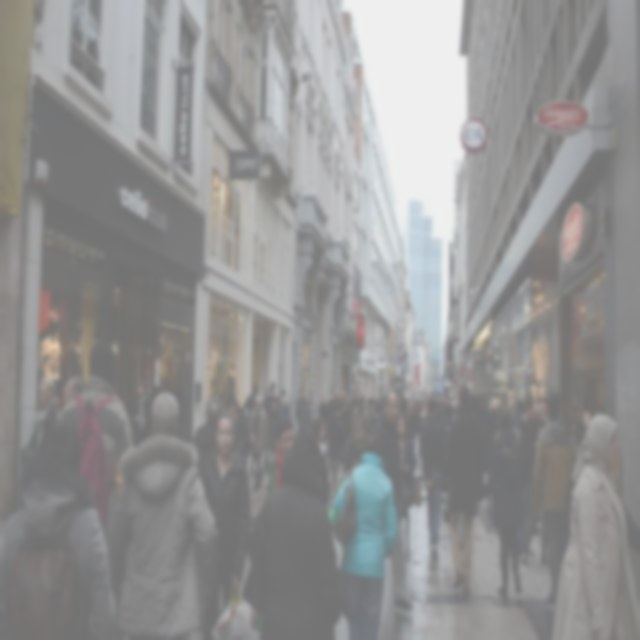pessoa: (240, 382, 417, 638), (262, 377, 548, 488), (110, 388, 220, 639), (0, 413, 120, 639), (550, 412, 640, 639), (255, 421, 343, 638), (326, 426, 399, 638), (56, 337, 134, 511), (530, 392, 582, 615), (202, 411, 252, 638), (444, 380, 486, 600), (376, 388, 414, 612), (490, 407, 529, 600), (388, 412, 424, 555), (418, 394, 448, 564), (38, 313, 88, 412), (18, 373, 58, 491), (515, 393, 537, 560), (192, 397, 225, 499), (265, 414, 296, 498), (248, 393, 269, 495), (226, 394, 254, 466), (527, 486, 551, 570), (129, 376, 154, 448), (154, 336, 184, 388), (208, 351, 238, 402)
